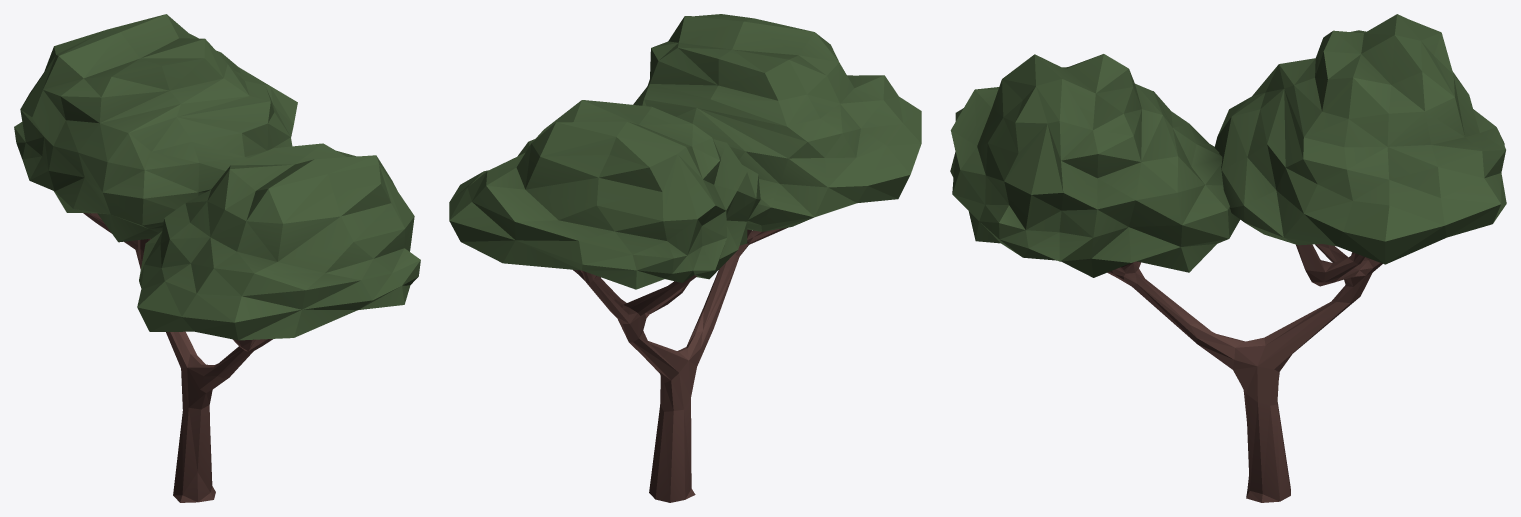
File: commontree-1.glb
3 renders of one model, left to right at view 1: azimuth 30°, elevation 25°; view 2: azimuth 150°, elevation 25°; view 3: azimuth 270°, elevation 25°, orthographic. The views are drawn at different scales.
Visible parts, largest first — view 1: commontree-1; view 2: commontree-1; view 3: commontree-1.
Part boxes in pixels (left/top/right/bottom): commontree-1: left=14, top=14, right=420, bottom=502; commontree-1: left=449, top=14, right=921, bottom=502; commontree-1: left=950, top=14, right=1506, bottom=502.
Size of the model in its own units: 4.95 by 6.5 by 7.27.
